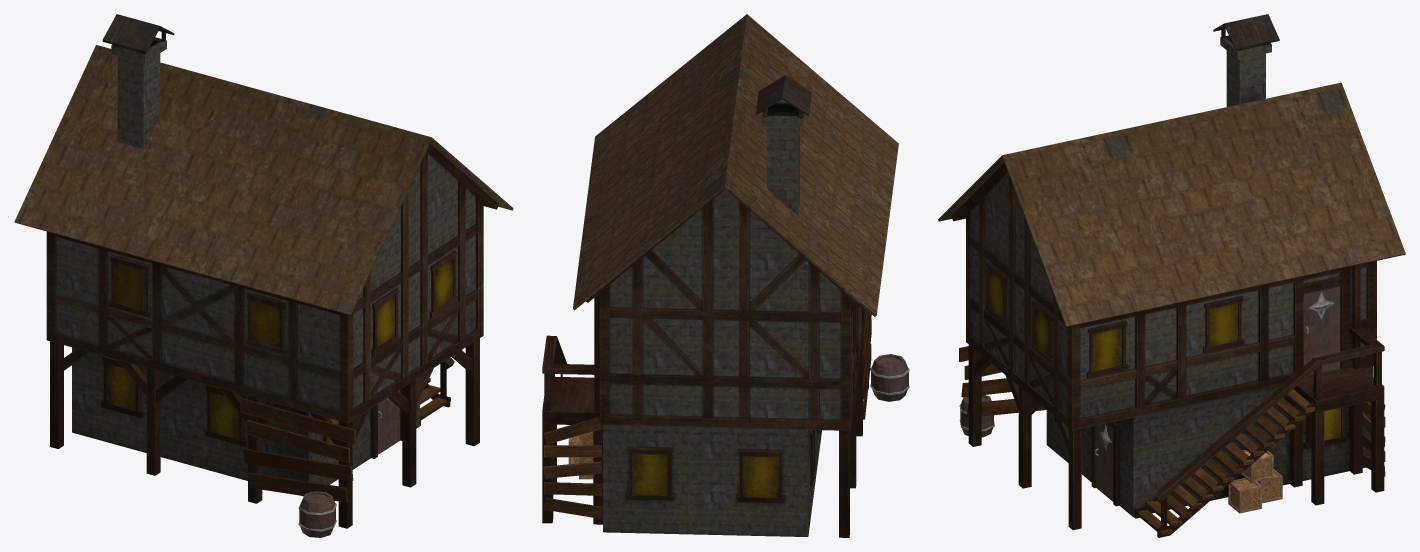
File: house 7.fbx
3 views of the same model, side by side, from view 1: azimuth 30°, elevation 25°; view 2: azimuth 150°, elevation 25°; view 3: azimuth 270°, elevation 25° (orthographic). The views are drawn at different scales.
Parts seen in each view (by area): view 1: BaseBody.002_BaseBody.002_0, Skeleton.001_Skeleton_0, Door...001_OutProp.001_0, Door...003_OutProp.001_0; view 2: BaseBody.002_BaseBody.002_0, Skeleton.001_Skeleton_0, Door...001_OutProp.001_0, Door...003_OutProp.001_0; view 3: BaseBody.002_BaseBody.002_0, Skeleton.001_Skeleton_0, Door...001_OutProp.001_0, Door...003_OutProp.001_0.
Part boxes in pixels (x1,y1,x2,y2): BaseBody.002_BaseBody.002_0: (14,14,513,496); Skeleton.001_Skeleton_0: (46,151,483,528); Door...001_OutProp.001_0: (101,250,457,458); Door...003_OutProp.001_0: (298,491,336,537); BaseBody.002_BaseBody.002_0: (573,14,898,536); Skeleton.001_Skeleton_0: (542,199,871,537); Door...001_OutProp.001_0: (542,303,858,518); Door...003_OutProp.001_0: (870,354,909,401); BaseBody.002_BaseBody.002_0: (938,14,1405,517); Skeleton.001_Skeleton_0: (959,176,1384,530); Door...001_OutProp.001_0: (985,262,1385,537); Door...003_OutProp.001_0: (959,395,994,437).
Size of the model in its own units: 1107 by 1138 by 1217.
3 materials, 3 textured.
